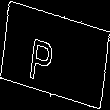P_N: (41, 26, 69, 84)
